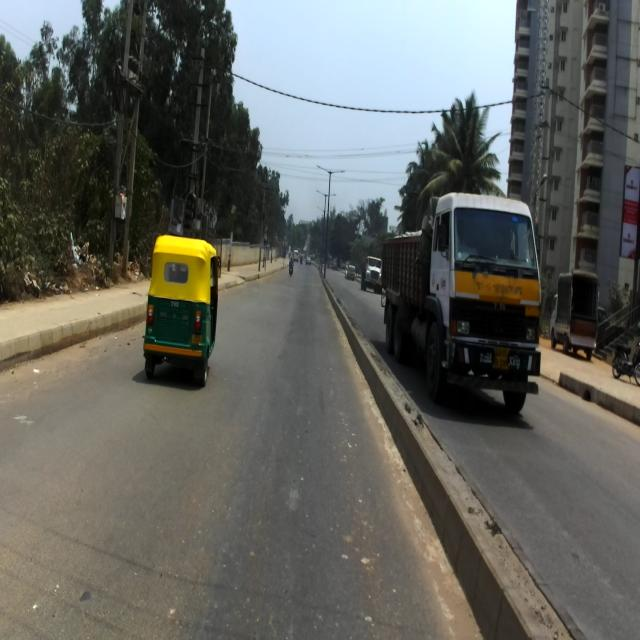auto ahead at: (140, 234, 224, 389)
truck ahead at: (378, 190, 549, 414)
